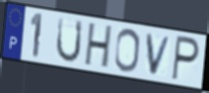1: (29, 12, 44, 60)
H: (82, 22, 114, 71)
O: (113, 27, 141, 74)
P: (170, 34, 201, 84)
U: (54, 16, 84, 65)
V: (145, 32, 173, 77)
